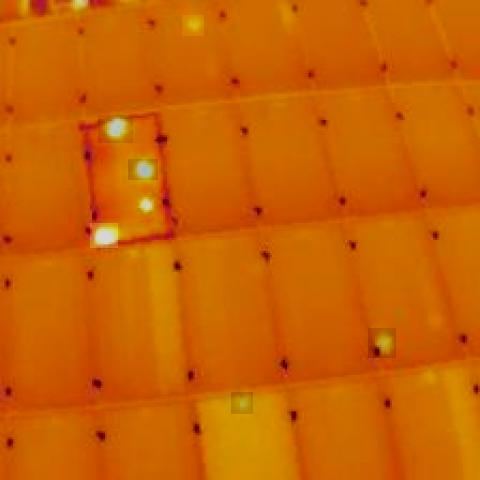fault: (98, 115, 133, 144), (368, 328, 396, 358), (133, 190, 158, 218), (90, 223, 118, 248), (128, 159, 158, 180), (231, 392, 253, 414), (182, 15, 204, 36)
